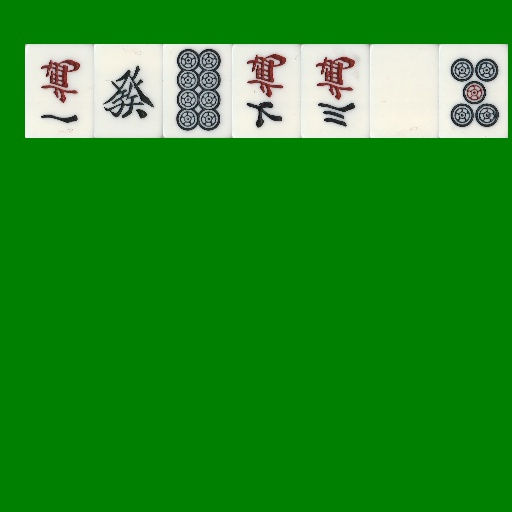1m: (25, 44, 94, 138)
3m: (301, 44, 370, 138)
5p: (439, 44, 508, 138)
7m: (232, 44, 301, 138)
8p: (163, 44, 232, 138)
hatsu: (94, 44, 163, 138)
white: (370, 44, 439, 138)
